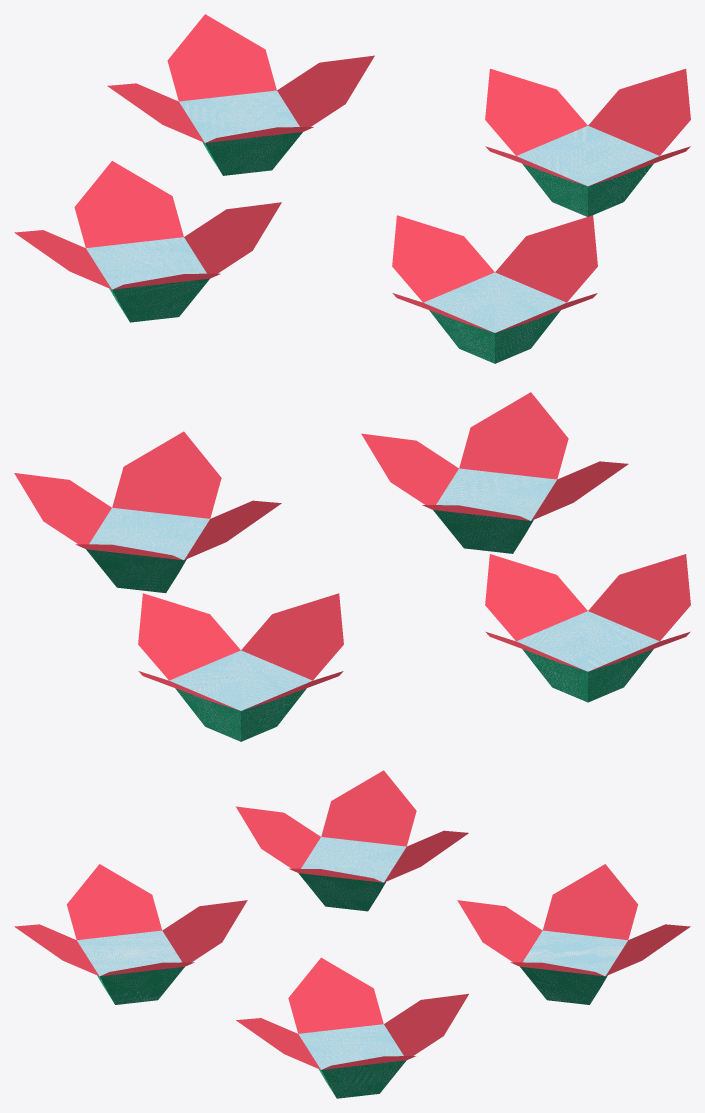
File: flowersLow.obj
3 renders of one model, top to bottom at view 1: azimuth 30°, elevation 25°; view 2: azimuth 150°, elevation 25°; view 3: azimuth 270°, elevation 25°, orthographic. The views are drawn at different scales.
Parts seen in each view (by area): view 1: flowersLow; view 2: flowersLow; view 3: flowersLow.
Boxes of the visible parts, bbox=[...] form: flowersLow: bbox=[14, 14, 690, 363]; flowersLow: bbox=[14, 392, 690, 741]; flowersLow: bbox=[14, 770, 690, 1098].
Size of the model in its own units: 0.7639 by 0.1 by 0.7639.
